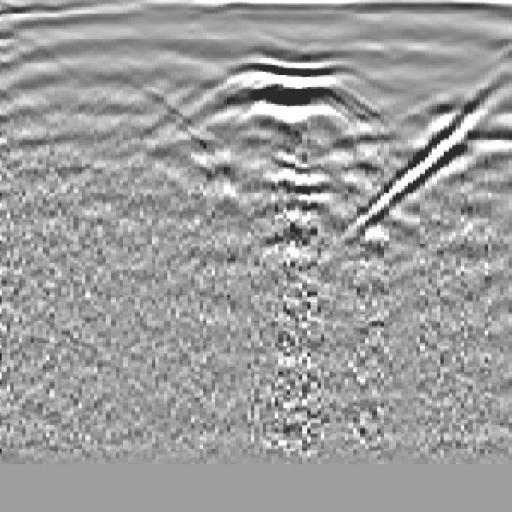metalic: (166, 37, 407, 235)
